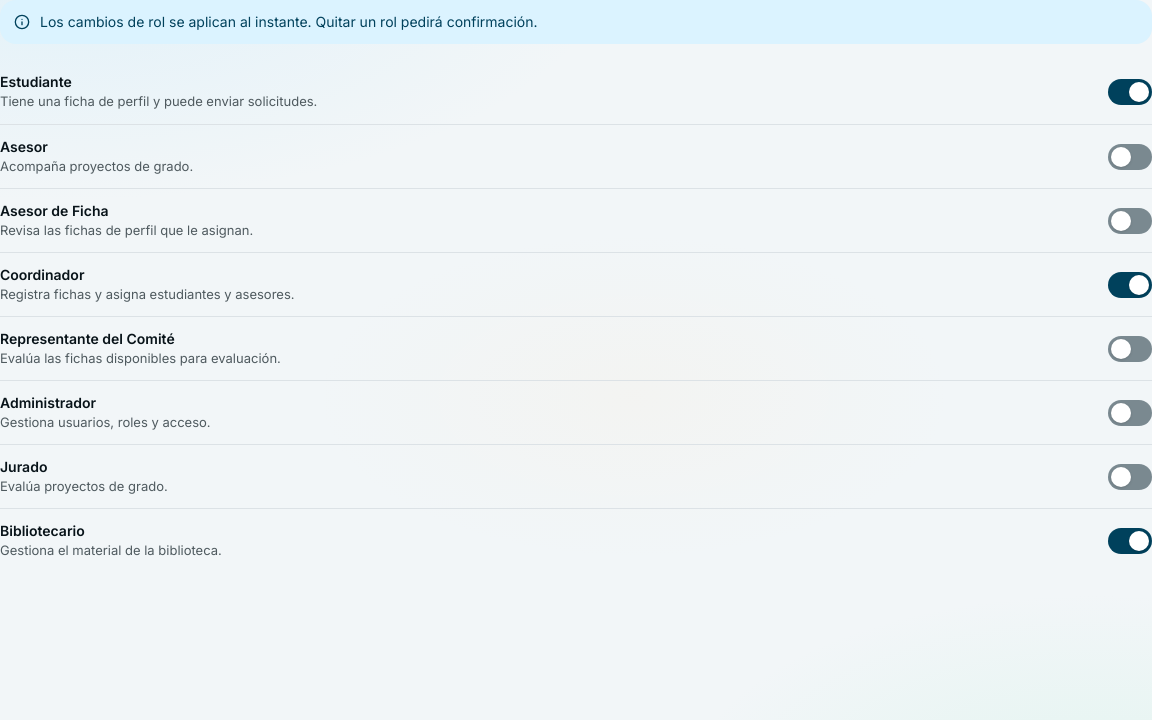
Test: EditarUsuarioRoles › apagar un rol abre la confirmación con sus consecuencias y el foco en "Cancelar"; cancelar no quita nada y confirmar quita el rol
Click the 1st switch named "Estudiante" at (1130, 92), box [1108,79,1151,105]
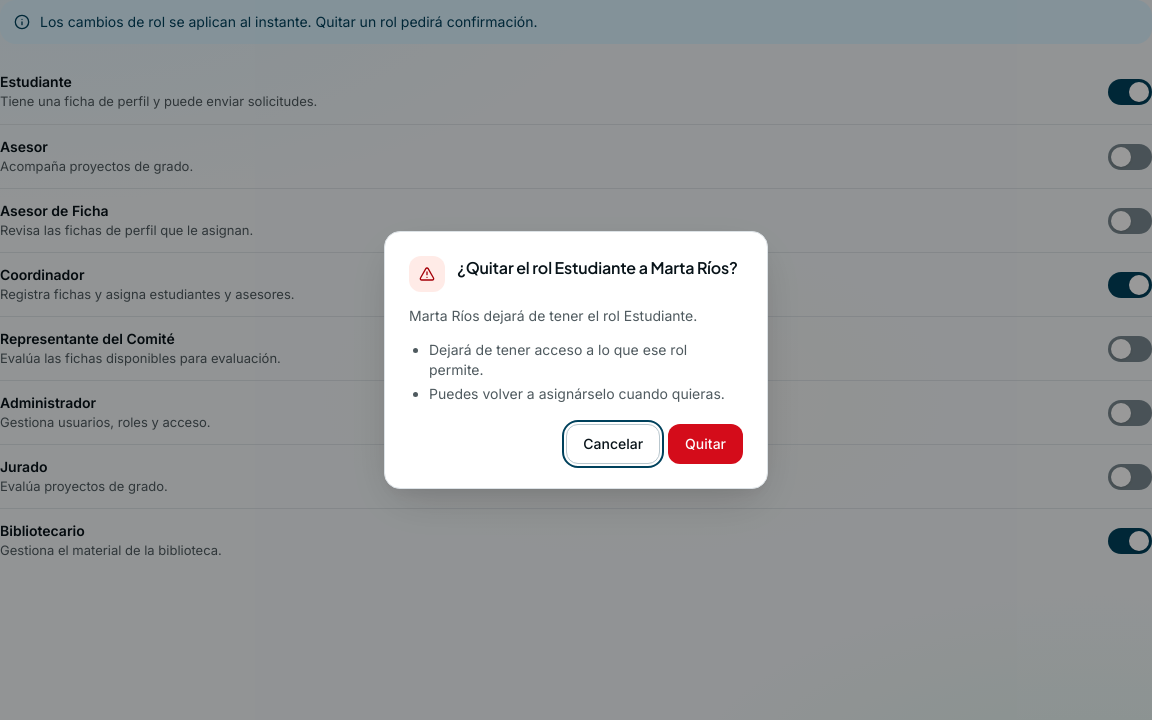
Click the button "Cancelar" at (613, 444), box [566,424,660,464]
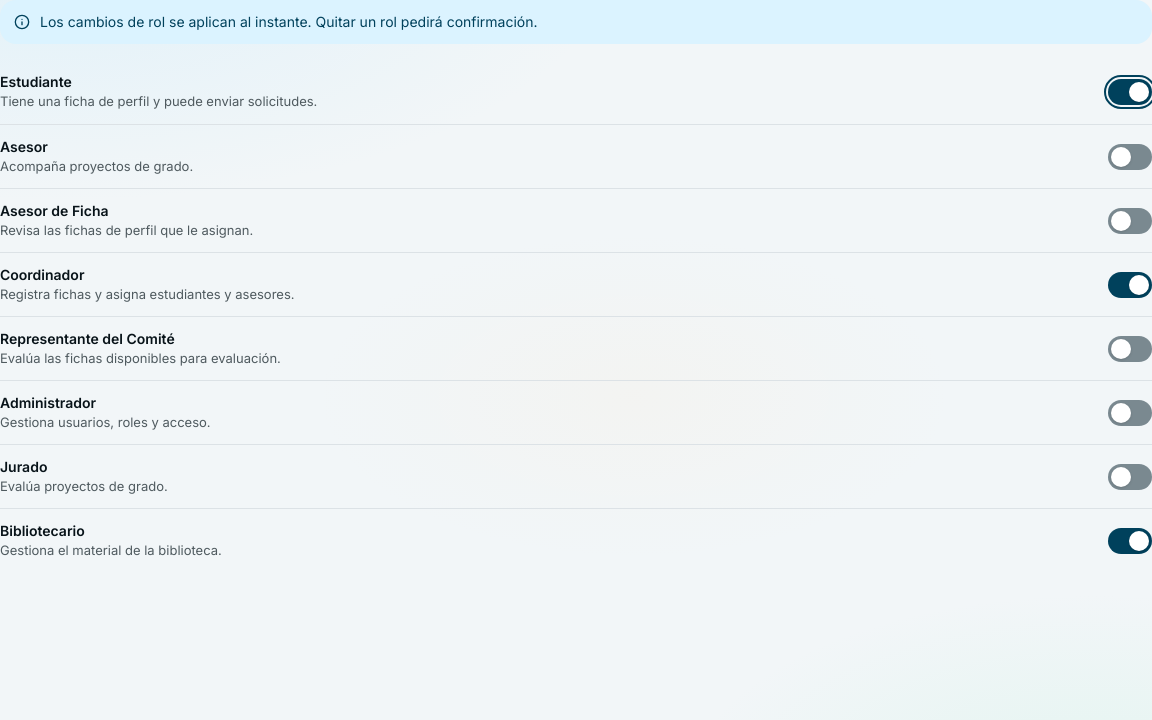
Expected: the dialog is gone
Click the 1st switch named "Estudiante" at (1130, 92), box [1108,79,1151,105]
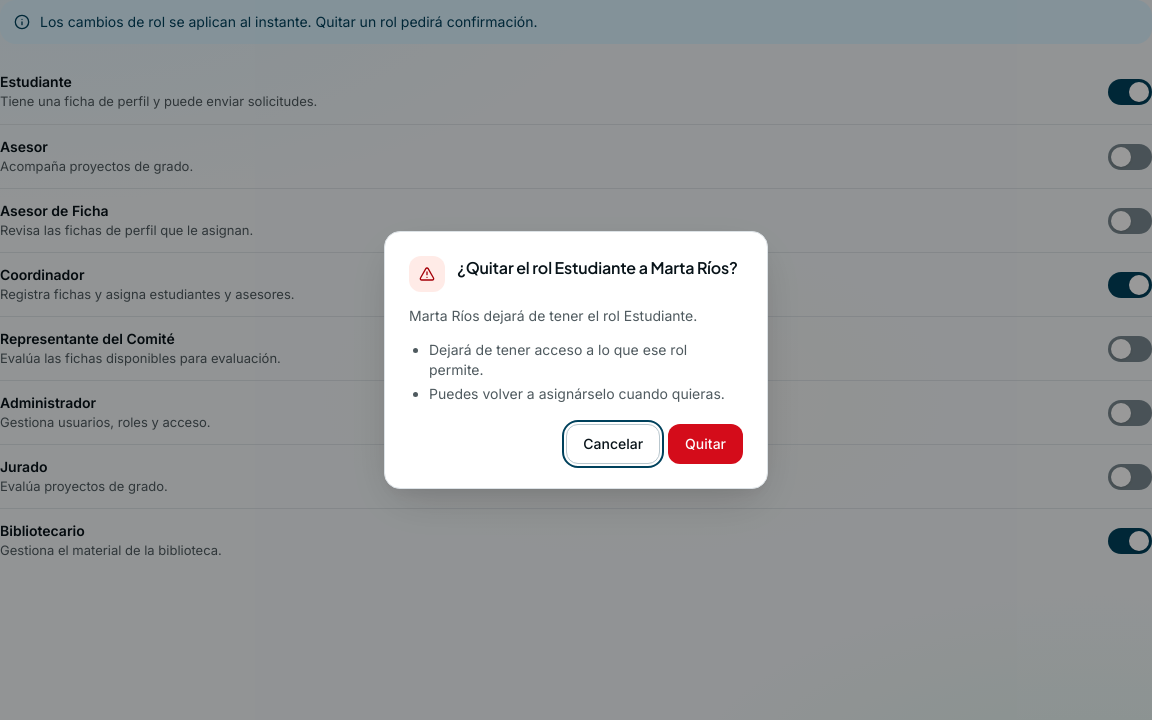
Click the button "Quitar" at (706, 444), box [668,424,743,464]
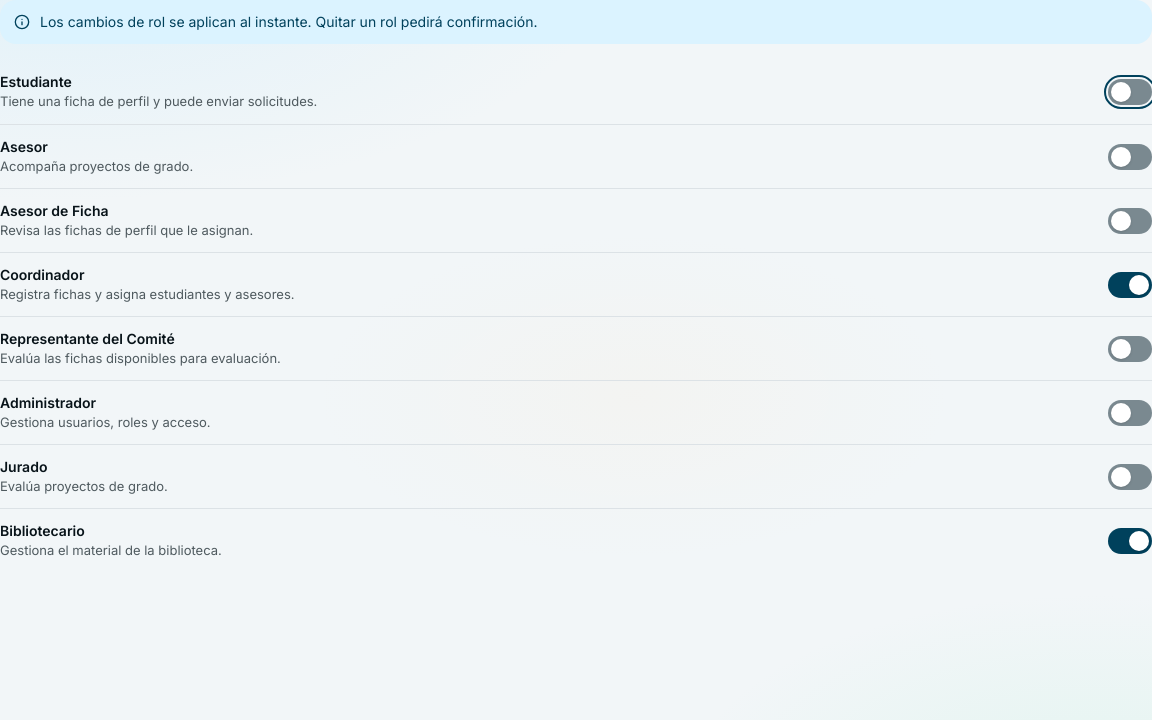
Expected: the 1st switch named "Estudiante" is not checked, [1108,79,1151,105]
Expected: the dialog is gone
